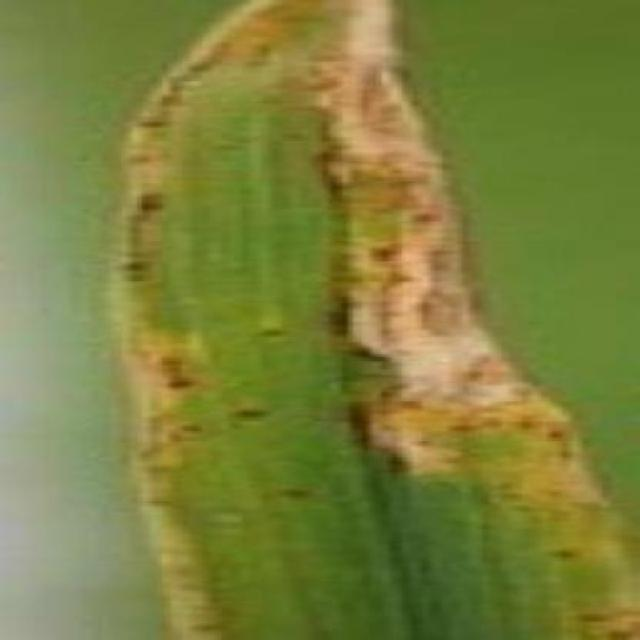Brown_Spot: (101, 10, 498, 636)
